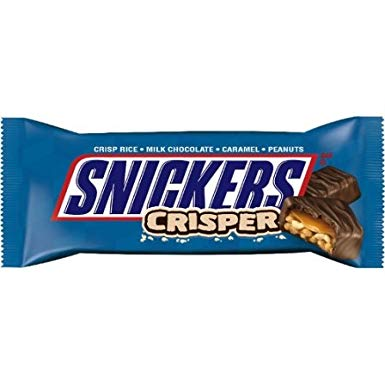snickers: (62, 158, 307, 213)
